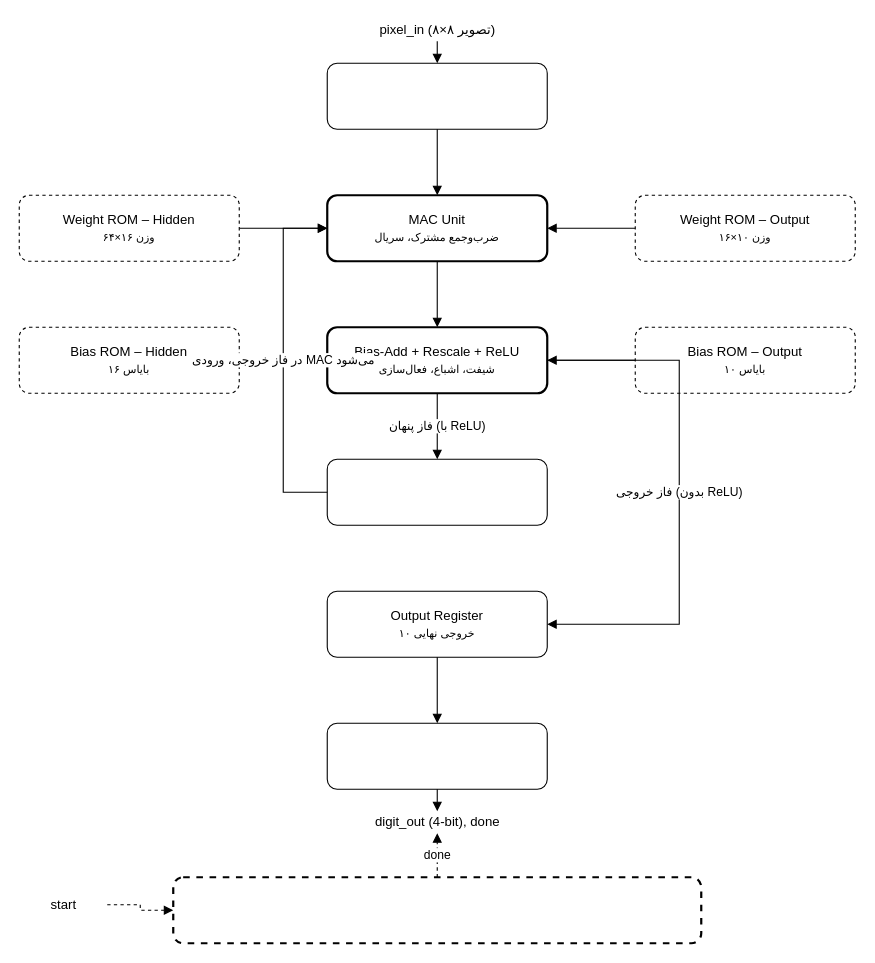
Some shapes in this 875 by 963 pixel diagram are drawn without their labels. Each missing label, with the box of its shape:
Argmax یافتن بیشینه بین ۱۰ خروجی: (326, 722, 547, 789)
Controller / FSM کنترل آدرس ROM، enable ثبات‌ها و MAC: (172, 876, 702, 944)
Hidden Register ۱۶ خروجی لایه پنهان: (326, 458, 547, 525)
Input Register ۶۴ پیکسل کوانتیزه: (326, 62, 547, 129)
